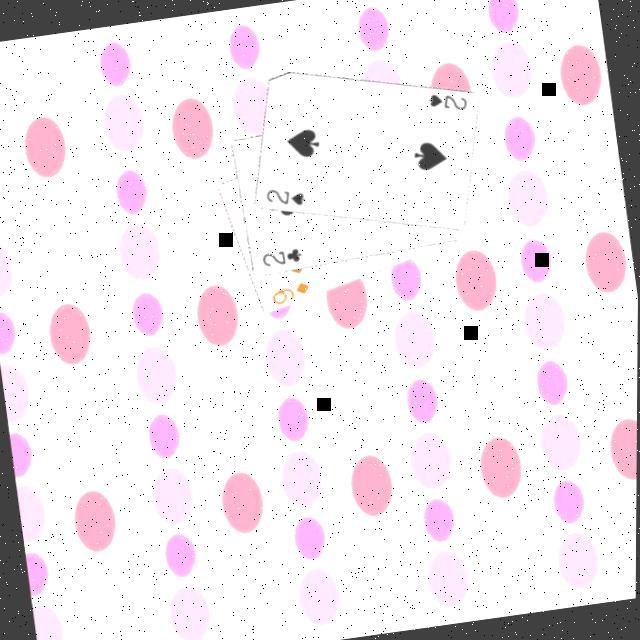2C: (260, 246, 308, 272)
2S: (264, 183, 312, 215), (426, 88, 473, 120)
9D: (269, 280, 317, 310)
